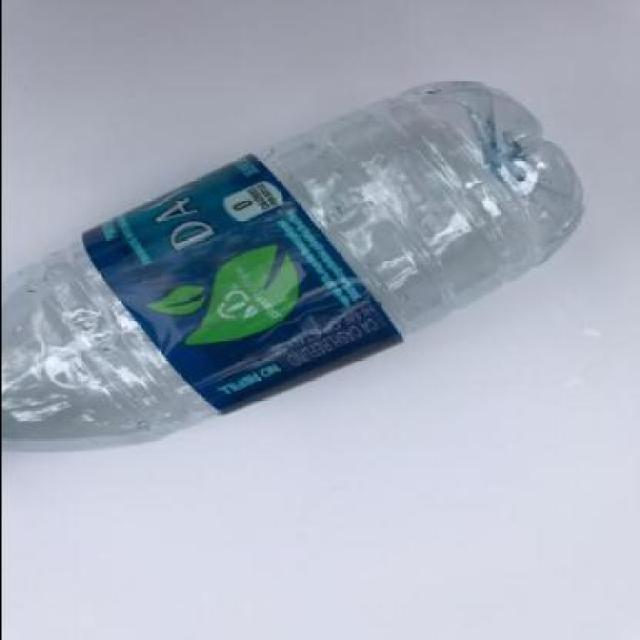PLASTIC: (2, 83, 580, 457)
